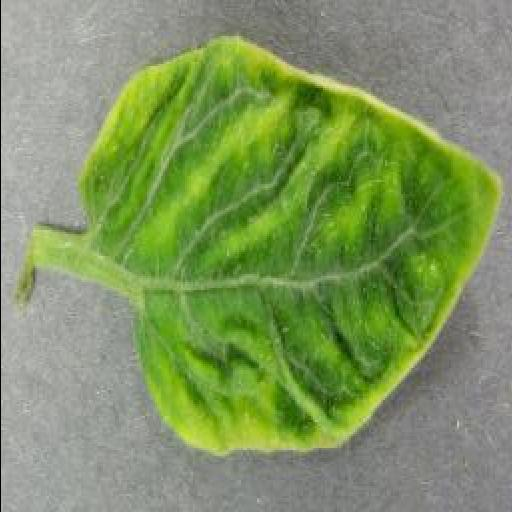disease_tomato: (74, 32, 502, 456)
